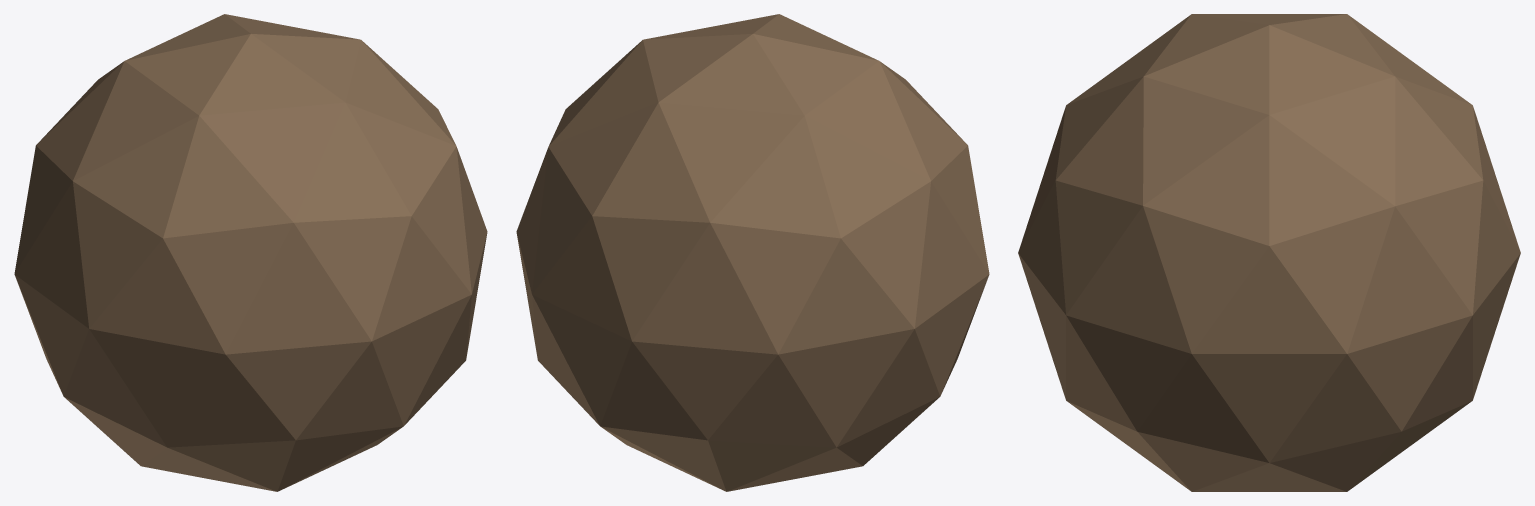
The picture shows the model from 3 angles, left to right: view 1: azimuth 30°, elevation 25°; view 2: azimuth 150°, elevation 25°; view 3: azimuth 270°, elevation 25°; orthographic projection. The views are drawn at different scales.
Visible parts, largest first — view 1: Main; view 2: Main; view 3: Main.
Boxes of the visible parts, x1,y1,x2,y2 form: Main: [14, 14, 487, 491]; Main: [516, 14, 989, 491]; Main: [1018, 14, 1520, 491].
Bounding box in the file's own units: 0.7608 × 0.8 × 0.8.
